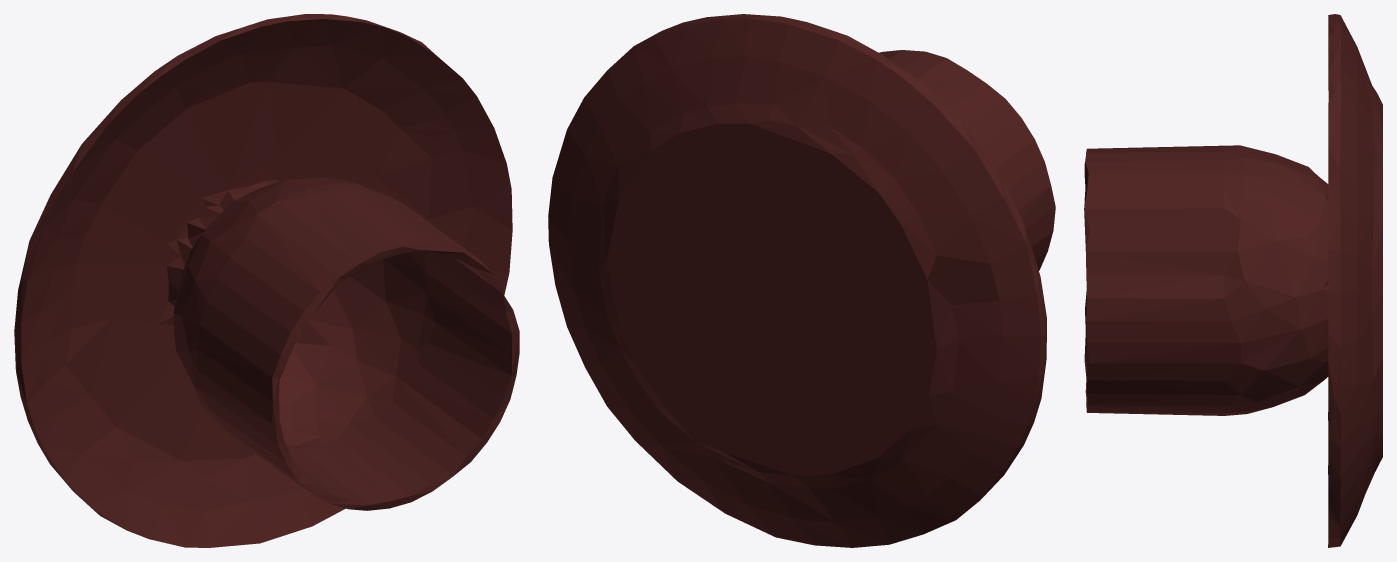
File: model_align.obj
3 views of the same model, side by side, from view 1: azimuth 30°, elevation 25°; view 2: azimuth 150°, elevation 25°; view 3: azimuth 270°, elevation 25° (orthographic). The views are drawn at different scales.
Bounding box in the file's own units: 0.1025 × 0.1023 × 0.0573.
